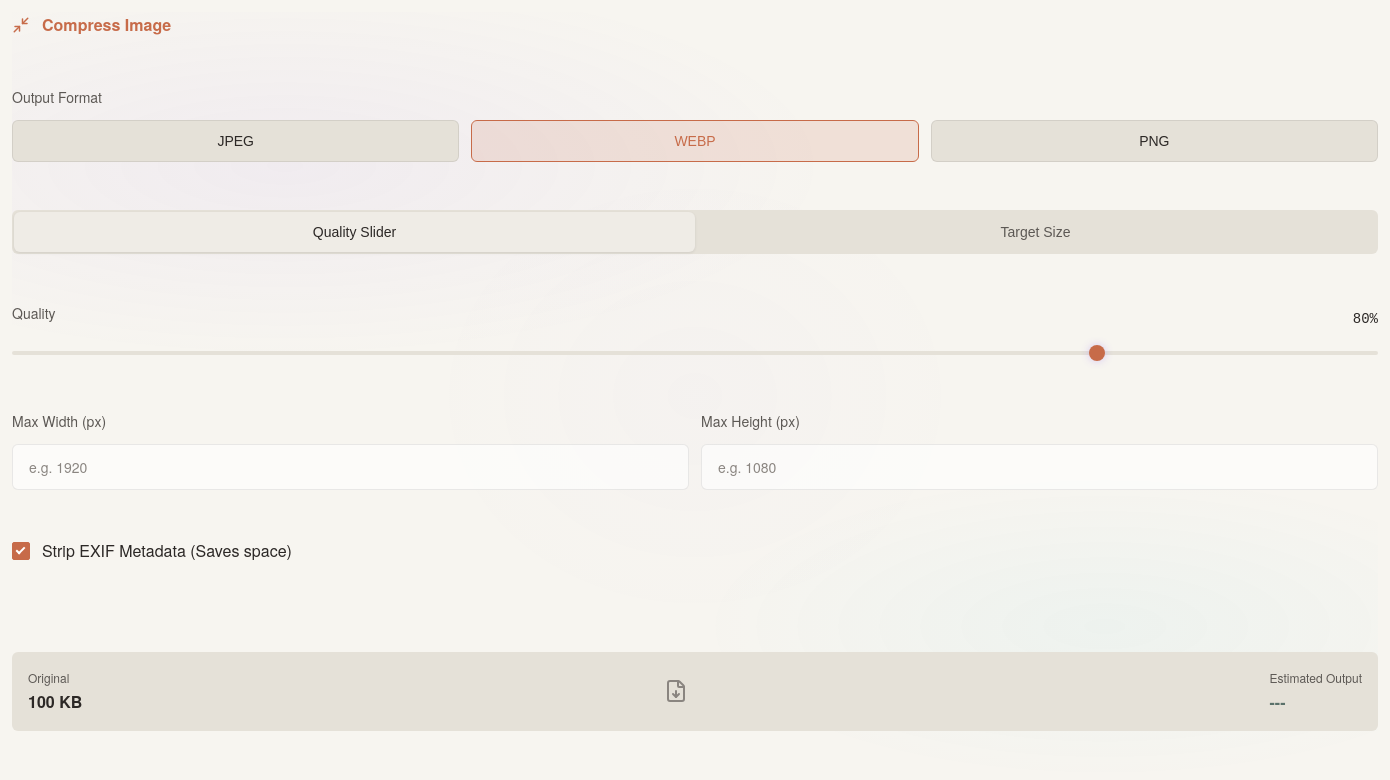
Test case: CompressPanel Component › toggles output formats and handles PNG disable conditions
This screenshot has width=1390, height=780.
Click the button "PNG" at (1154, 141), box [931,120,1378,162]
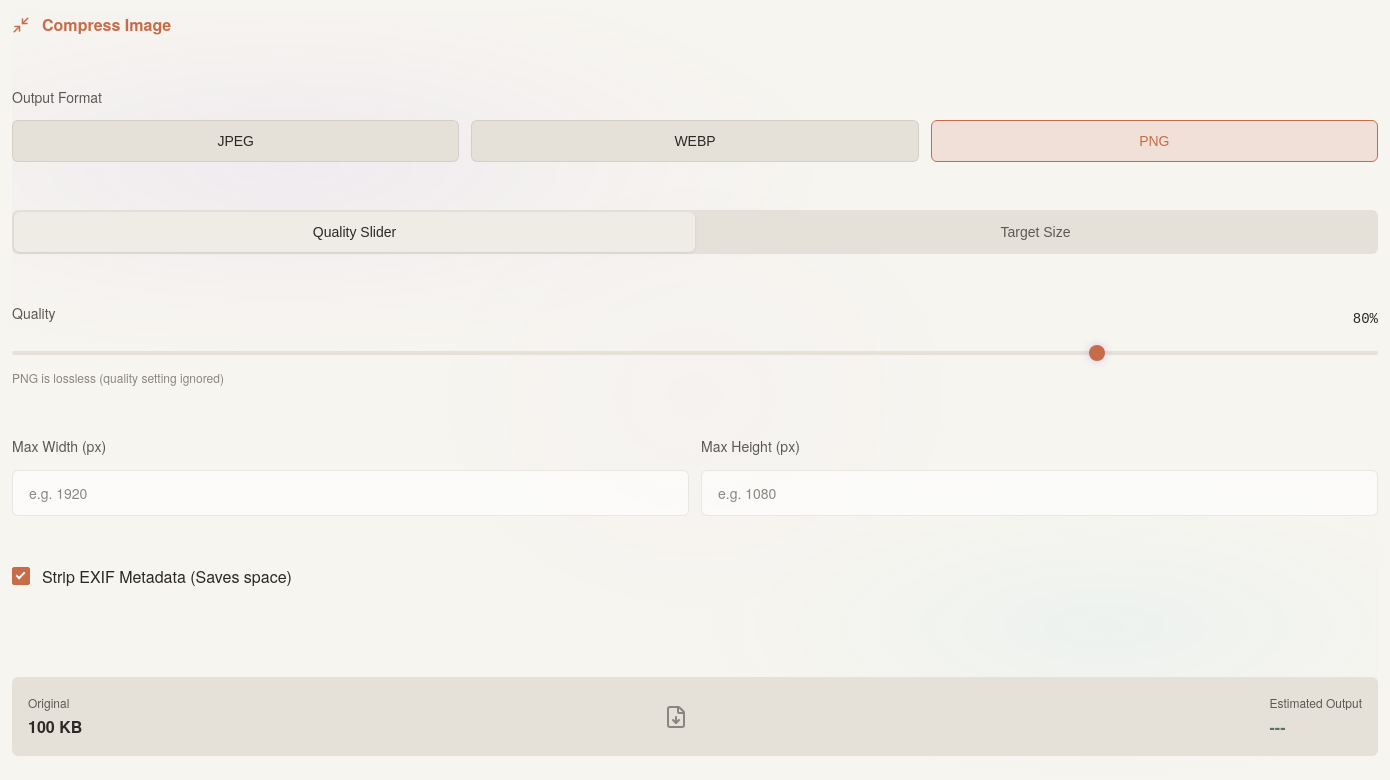
Expected: the slider is disabled, [12,351,1378,355]
Expected: the text "PNG is lossless (quality setting ignored)" is shown, [12,369,224,386]
